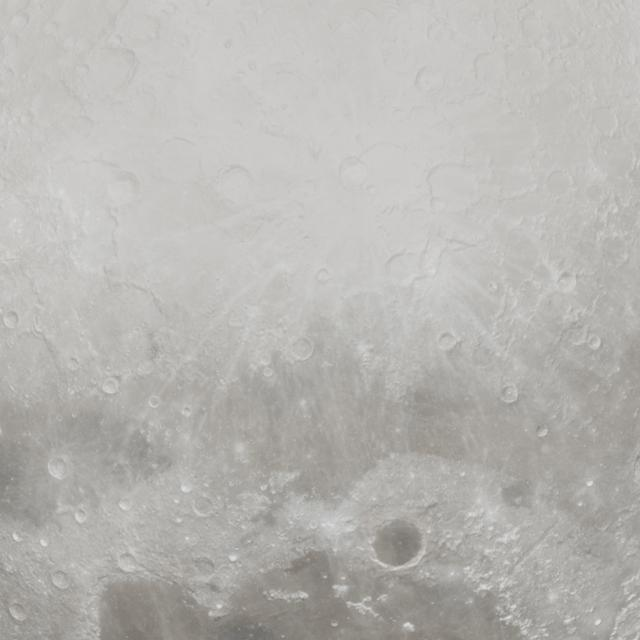crater: (78, 41, 143, 103), (370, 519, 426, 567), (151, 136, 201, 182), (216, 163, 256, 200), (102, 170, 140, 208), (383, 251, 416, 279), (501, 480, 532, 509), (338, 156, 367, 185), (413, 65, 441, 94), (544, 167, 573, 195), (138, 14, 166, 42), (190, 584, 222, 608), (472, 51, 498, 80), (288, 337, 314, 361), (472, 342, 498, 366), (584, 181, 608, 207), (548, 290, 573, 313), (47, 456, 70, 480), (426, 20, 450, 43), (436, 330, 460, 352), (116, 552, 138, 573), (556, 272, 578, 293), (169, 30, 191, 51), (192, 498, 214, 518), (207, 598, 231, 616), (50, 569, 71, 589), (505, 212, 527, 231), (193, 557, 216, 575), (499, 384, 519, 404), (8, 602, 28, 622), (2, 310, 21, 330), (10, 12, 30, 31), (42, 20, 61, 38), (61, 34, 80, 52), (228, 311, 248, 328), (571, 328, 589, 346), (594, 516, 614, 532), (136, 359, 154, 376), (546, 586, 563, 604), (101, 378, 120, 394), (429, 195, 446, 212), (106, 33, 124, 49), (341, 518, 358, 534), (2, 66, 16, 85), (586, 334, 602, 350), (315, 268, 331, 284), (75, 62, 91, 78), (256, 351, 272, 366), (74, 508, 88, 524), (118, 498, 134, 512), (147, 394, 162, 408), (66, 357, 80, 371), (535, 424, 549, 438), (180, 481, 194, 494), (18, 113, 31, 127), (12, 530, 25, 543), (261, 366, 275, 378), (528, 278, 542, 290), (180, 405, 193, 417), (307, 518, 320, 530), (246, 60, 258, 72), (222, 38, 234, 49), (425, 266, 437, 277), (39, 537, 50, 547), (488, 282, 498, 293), (228, 552, 238, 562), (330, 619, 340, 629), (174, 515, 184, 524), (585, 479, 594, 487), (172, 496, 180, 505), (594, 618, 602, 626)
rock: (69, 112, 95, 134), (4, 559, 19, 574), (32, 316, 44, 334), (447, 538, 463, 550), (608, 200, 620, 215), (585, 603, 597, 615), (621, 506, 635, 516), (634, 454, 640, 476), (565, 625, 577, 635)
